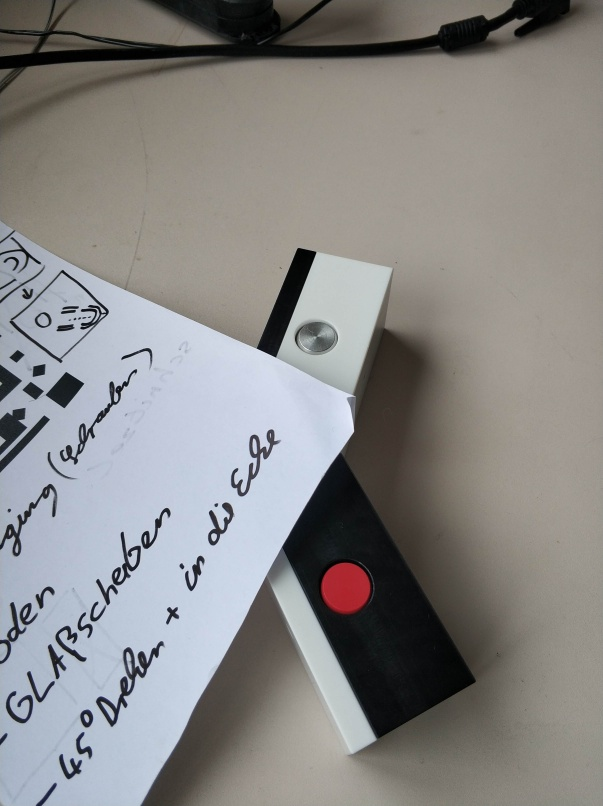black+white+silver: (251, 246, 396, 394)
white+black+red: (262, 452, 478, 761)
